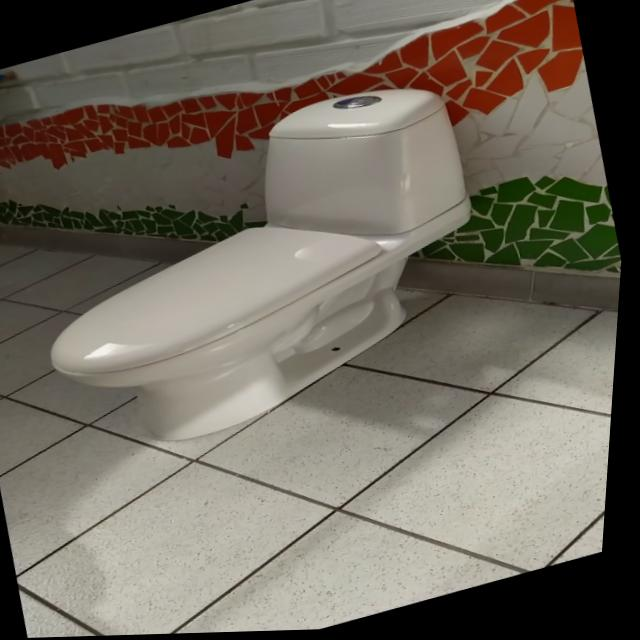toilet: (5, 66, 520, 474)
